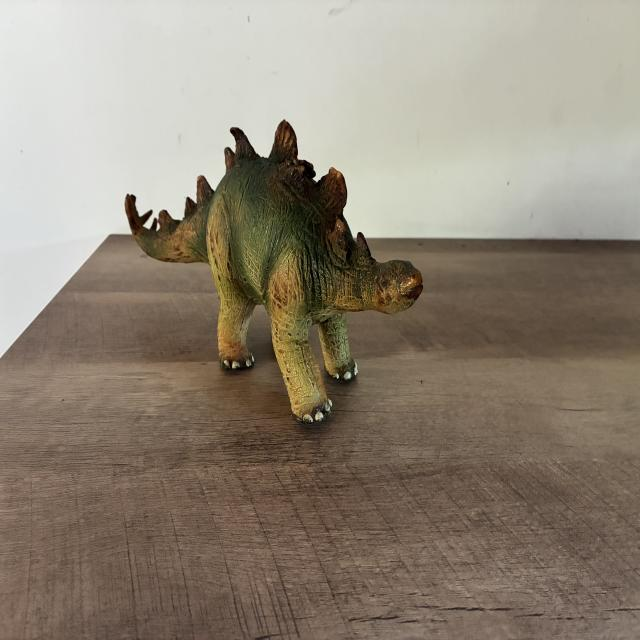dinosaur: (125, 120, 423, 423)
